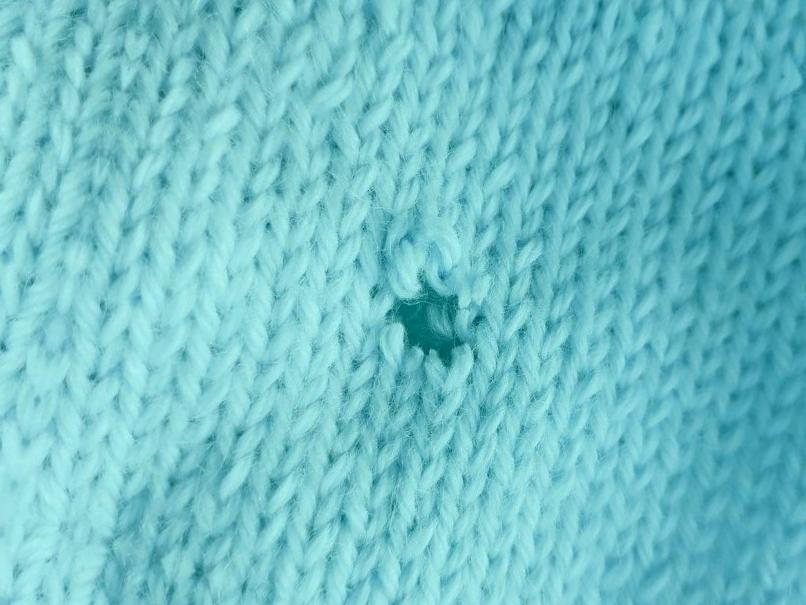hole: (376, 269, 481, 371)
